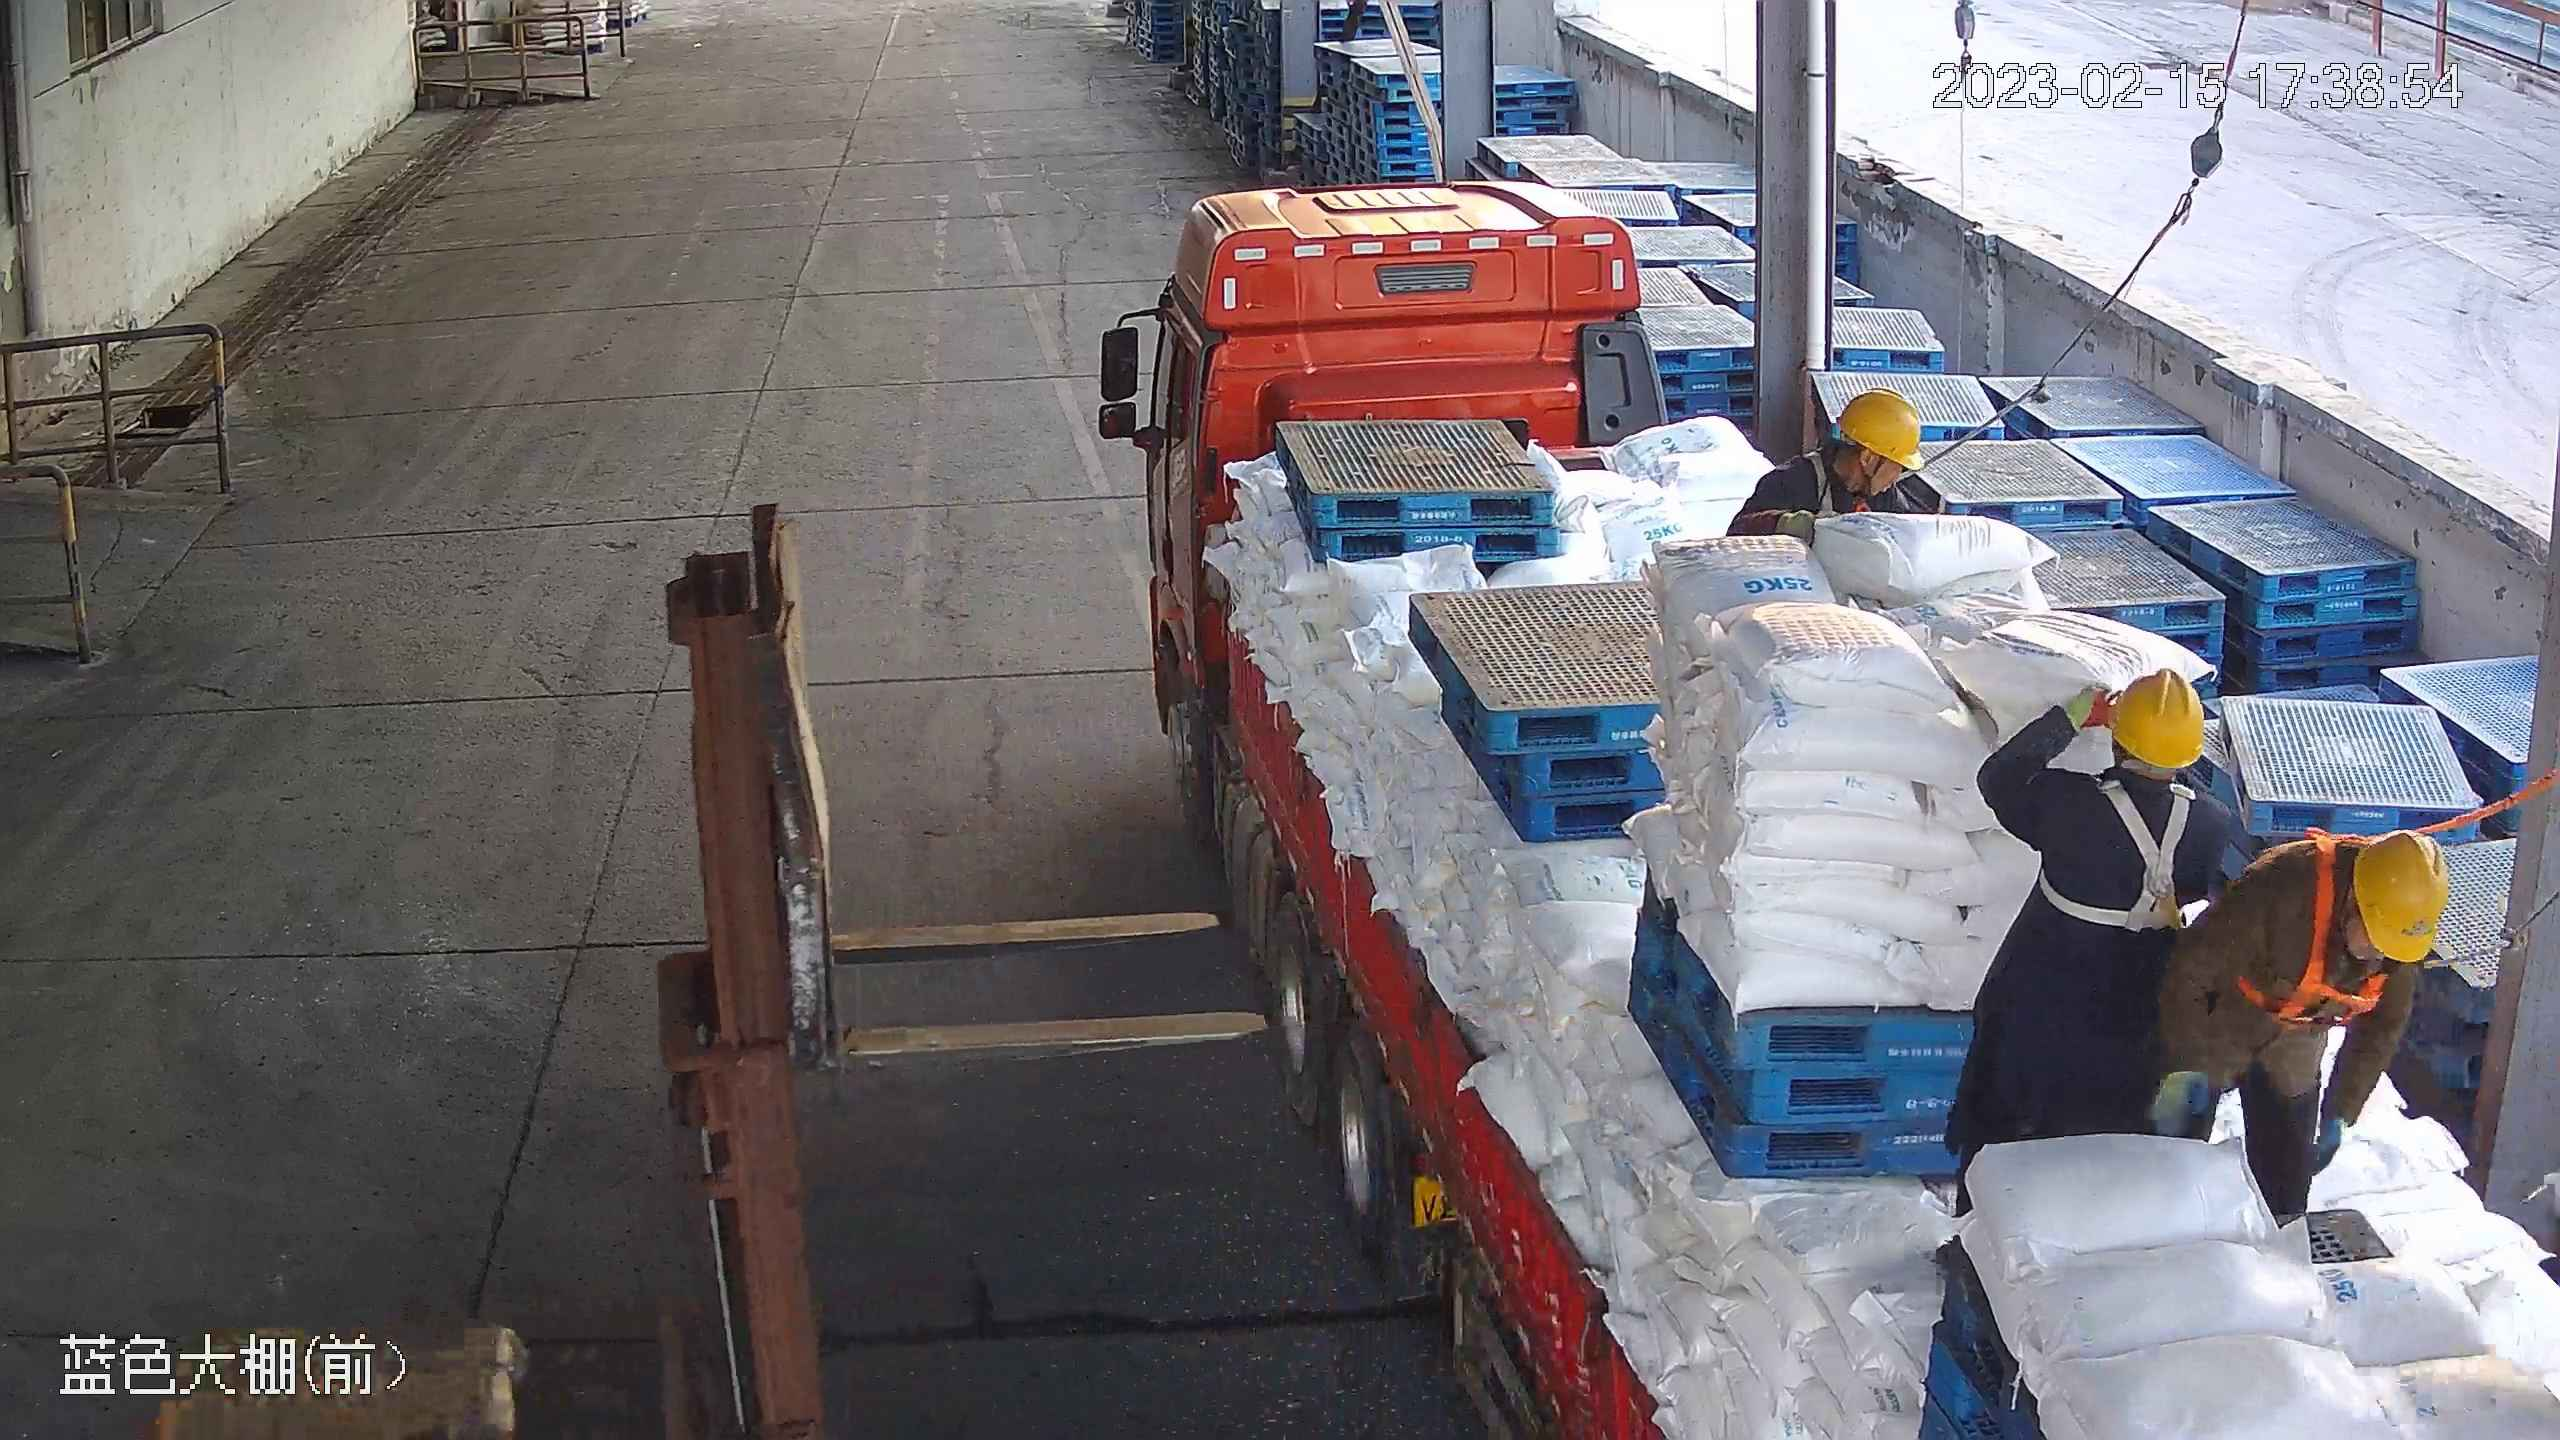belt: (2240, 832, 2398, 1043), (2033, 758, 2212, 936), (1807, 449, 1914, 527)
head: (1975, 667, 2222, 869), (2214, 801, 2435, 1003), (1761, 386, 1946, 530)
helmet: (2357, 830, 2457, 967), (2103, 671, 2211, 780), (1836, 386, 1929, 469)
people: (1935, 666, 2202, 1167), (2181, 799, 2451, 1253)
truck: (1112, 171, 2560, 1440)
